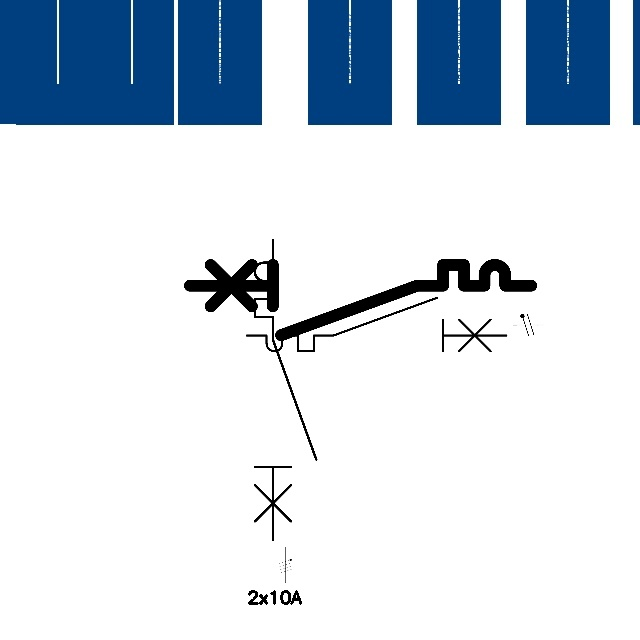interruptor_termomagnetico: (181, 256, 540, 343), (247, 232, 324, 547), (240, 291, 513, 358)
